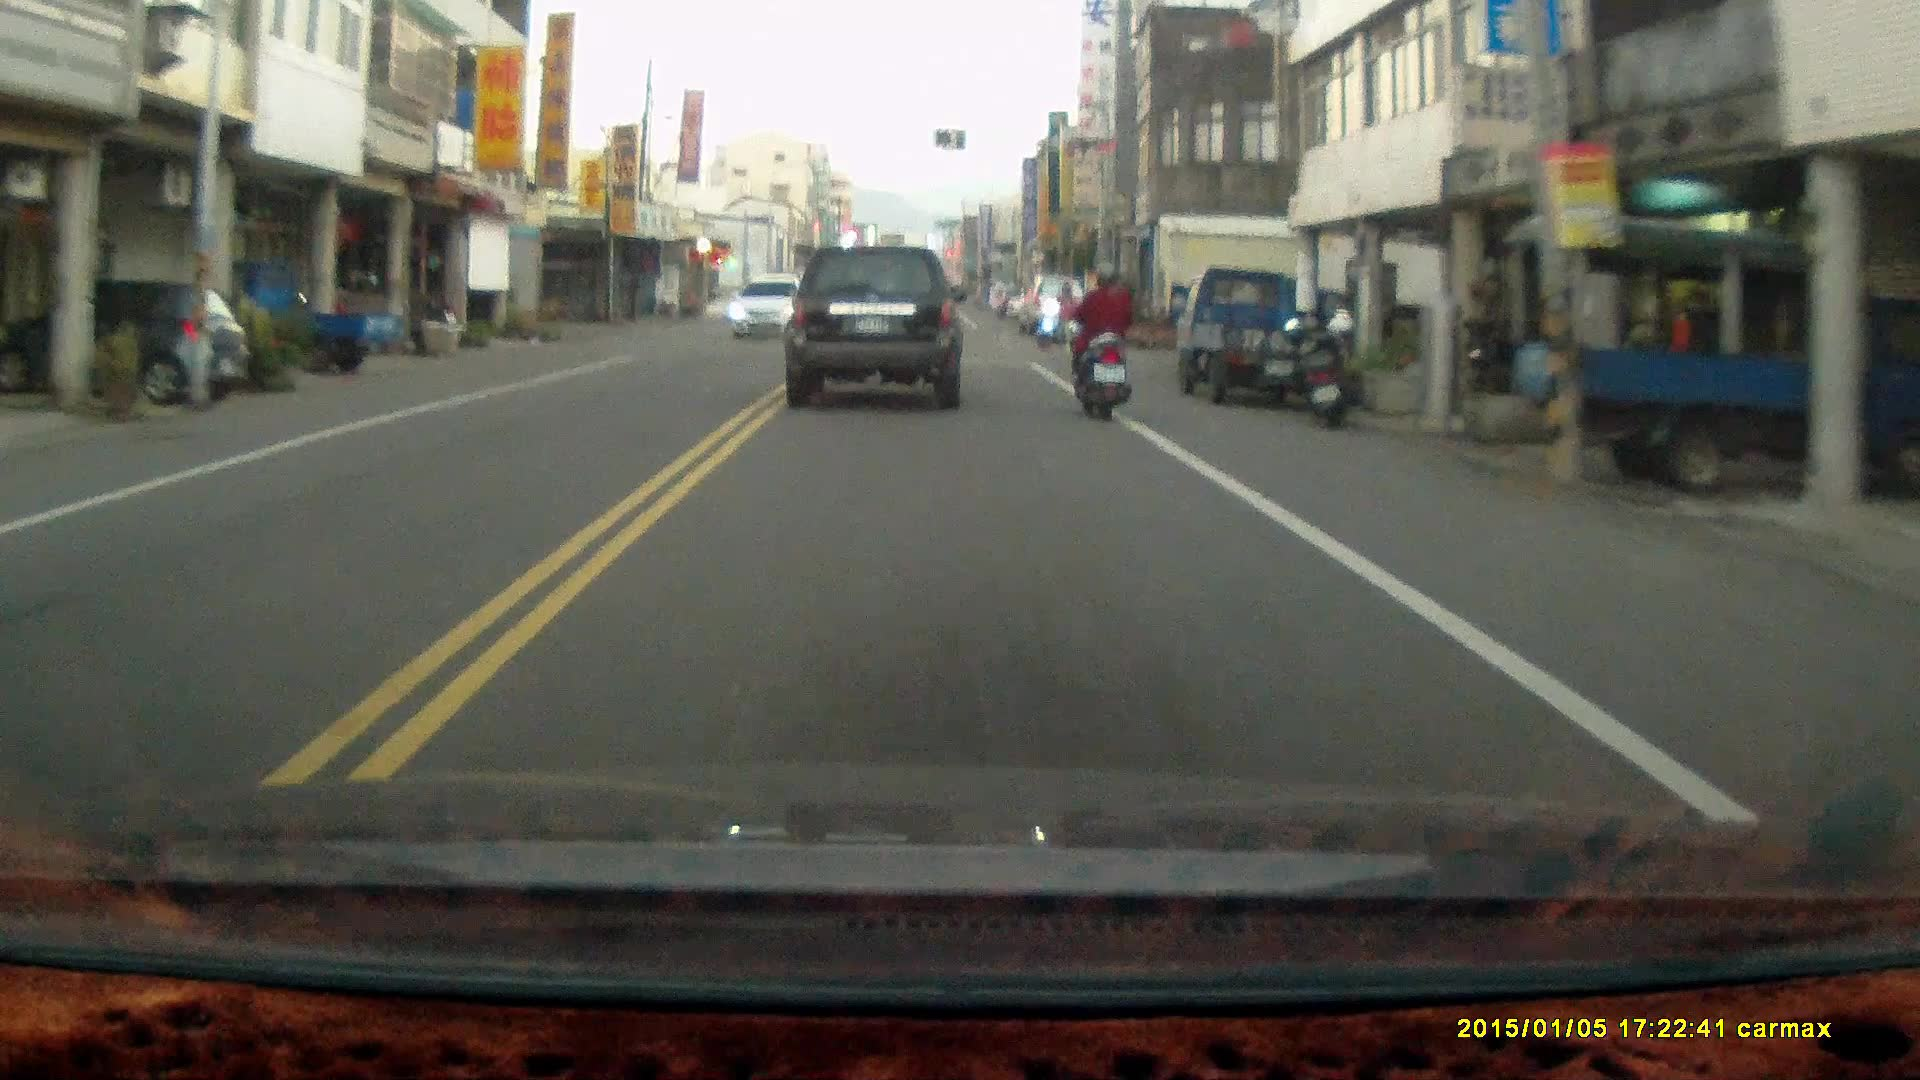rider: (1071, 260, 1130, 420), (1033, 283, 1080, 349)
vehicle: (1549, 219, 1920, 489), (1, 280, 251, 412), (786, 245, 967, 414), (1175, 269, 1356, 408), (208, 260, 408, 375), (731, 276, 806, 340)
